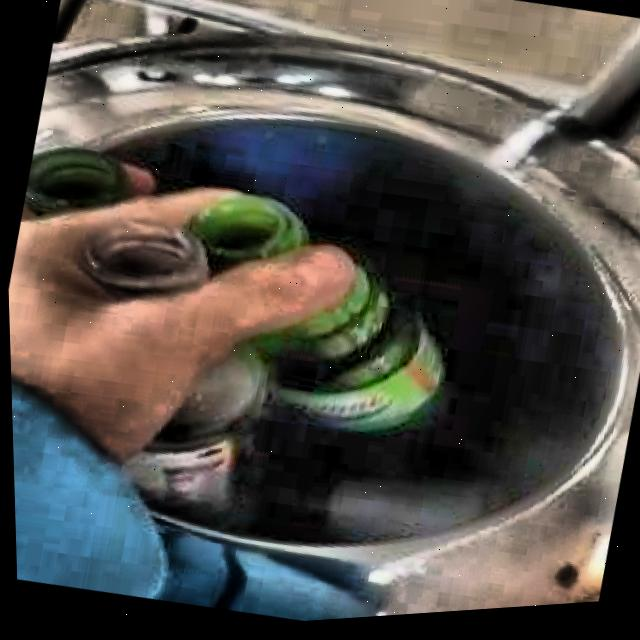glass: (121, 272, 441, 522), (78, 198, 308, 300), (22, 150, 122, 216)
